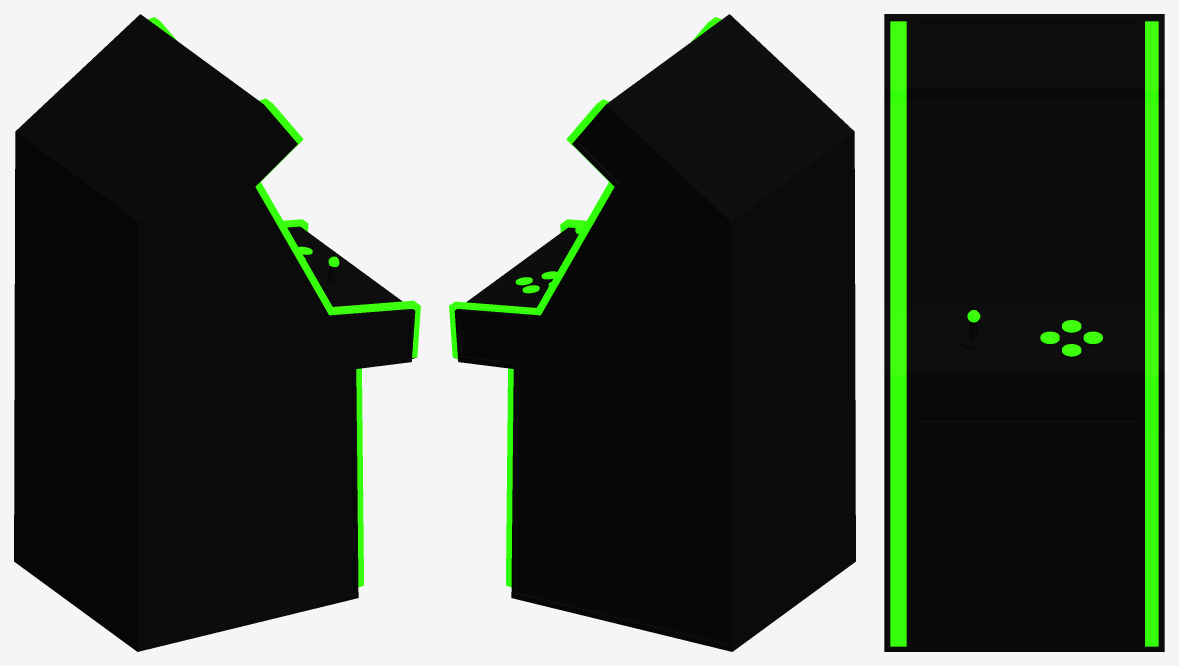
The model's file is Arcade Machine Green.glb.
3 renders of one model, left to right at view 1: azimuth 30°, elevation 25°; view 2: azimuth 150°, elevation 25°; view 3: azimuth 270°, elevation 25°, orthographic. The views are drawn at different scales.
Parts seen in each view (by area): view 1: Arcade Machine Green; view 2: Arcade Machine Green; view 3: Arcade Machine Green.
Part boxes in pixels (bbox=[...]): Arcade Machine Green: bbox=[14, 14, 420, 651]; Arcade Machine Green: bbox=[449, 14, 855, 651]; Arcade Machine Green: bbox=[884, 14, 1164, 651].
Size of the model in its own units: 1.74 by 3 by 1.3.
